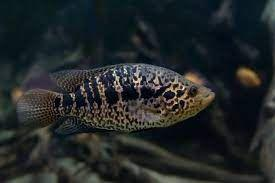Jaguar Gapote: (16, 63, 216, 136)
